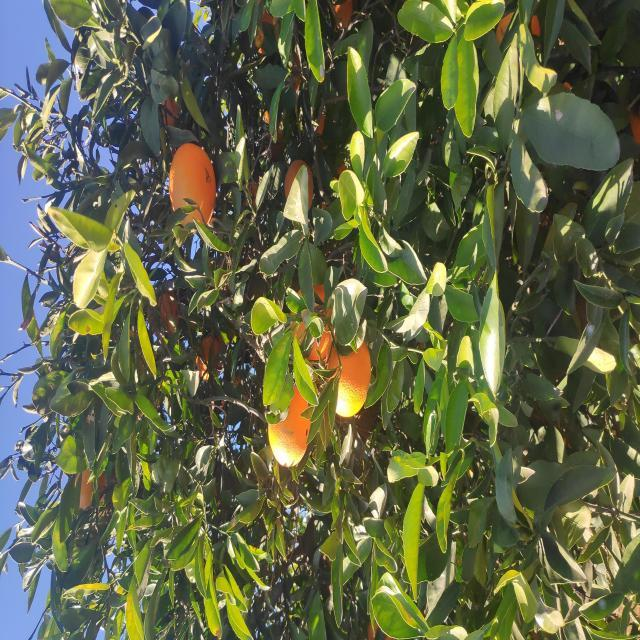Jeruk Sudah Matang: (270, 284, 372, 335), (174, 262, 264, 311), (410, 168, 498, 216), (217, 328, 312, 372), (566, 490, 634, 544), (124, 72, 191, 105), (580, 246, 636, 283), (429, 284, 484, 314), (608, 328, 640, 354), (173, 267, 176, 269)
